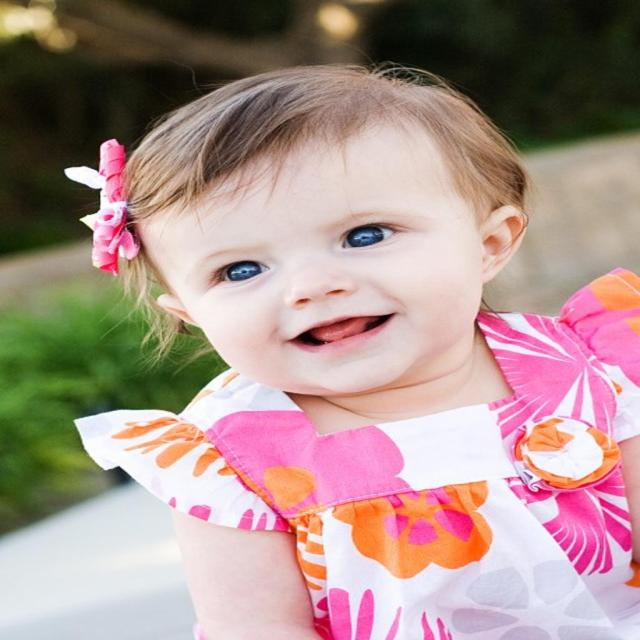Face: (101, 110, 497, 399)
